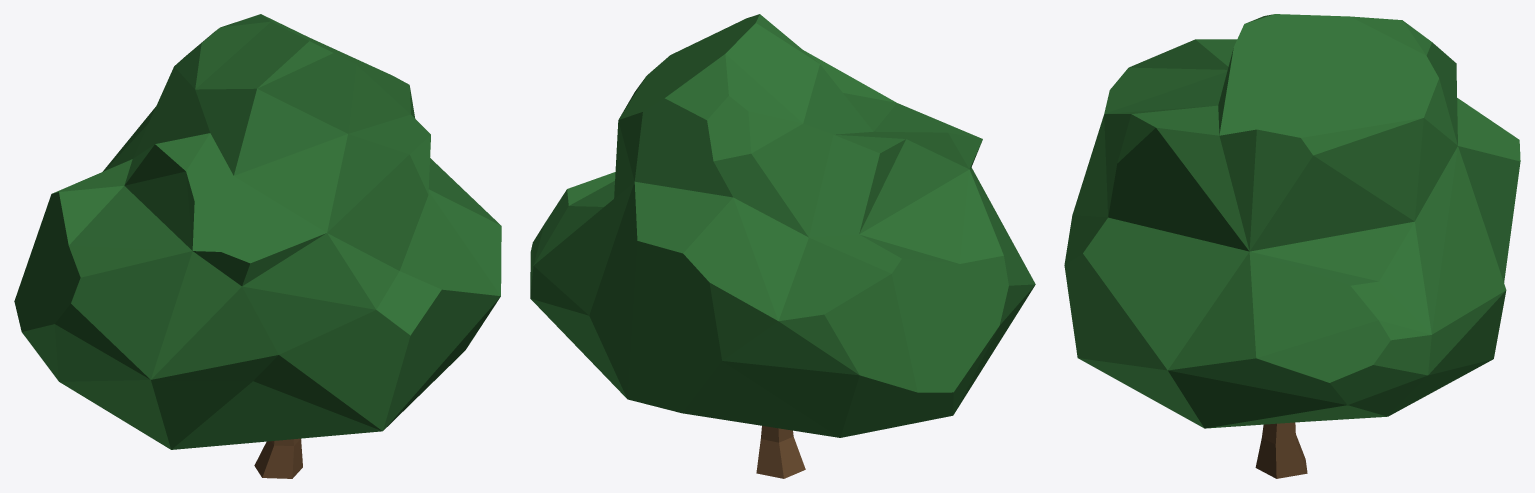
The model's file is bush-big.glb.
3 views of the same model, side by side, from view 1: azimuth 30°, elevation 25°; view 2: azimuth 150°, elevation 25°; view 3: azimuth 270°, elevation 25° (orthographic). The views are drawn at different scales.
Visible parts, largest first — view 1: bush-big; view 2: bush-big; view 3: bush-big.
Boxes of the visible parts, left/top/right/bottom form: bush-big: left=14, top=14, right=501, bottom=478; bush-big: left=530, top=14, right=1035, bottom=478; bush-big: left=1064, top=14, right=1520, bottom=478.
Size of the model in its own units: 2.75 by 2.59 by 2.29.
